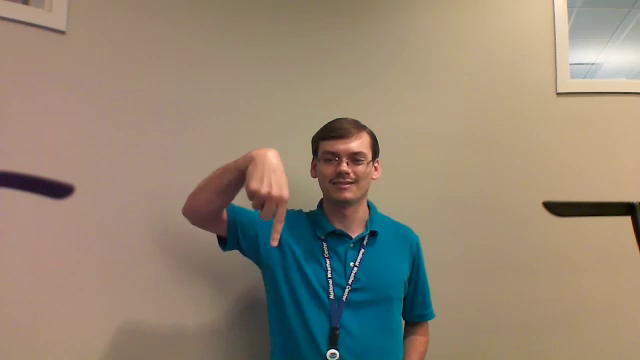down: (231, 138, 293, 254)
